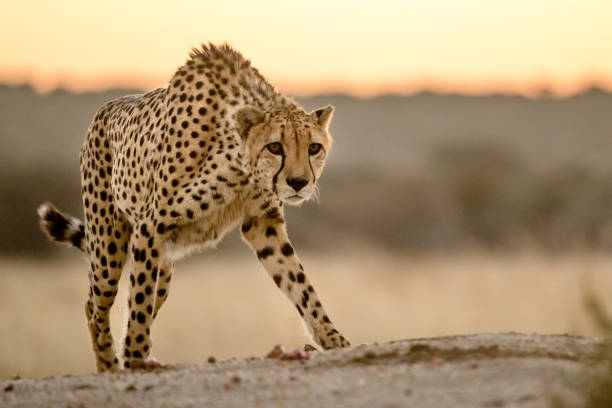cheetah: (228, 92, 344, 227)
